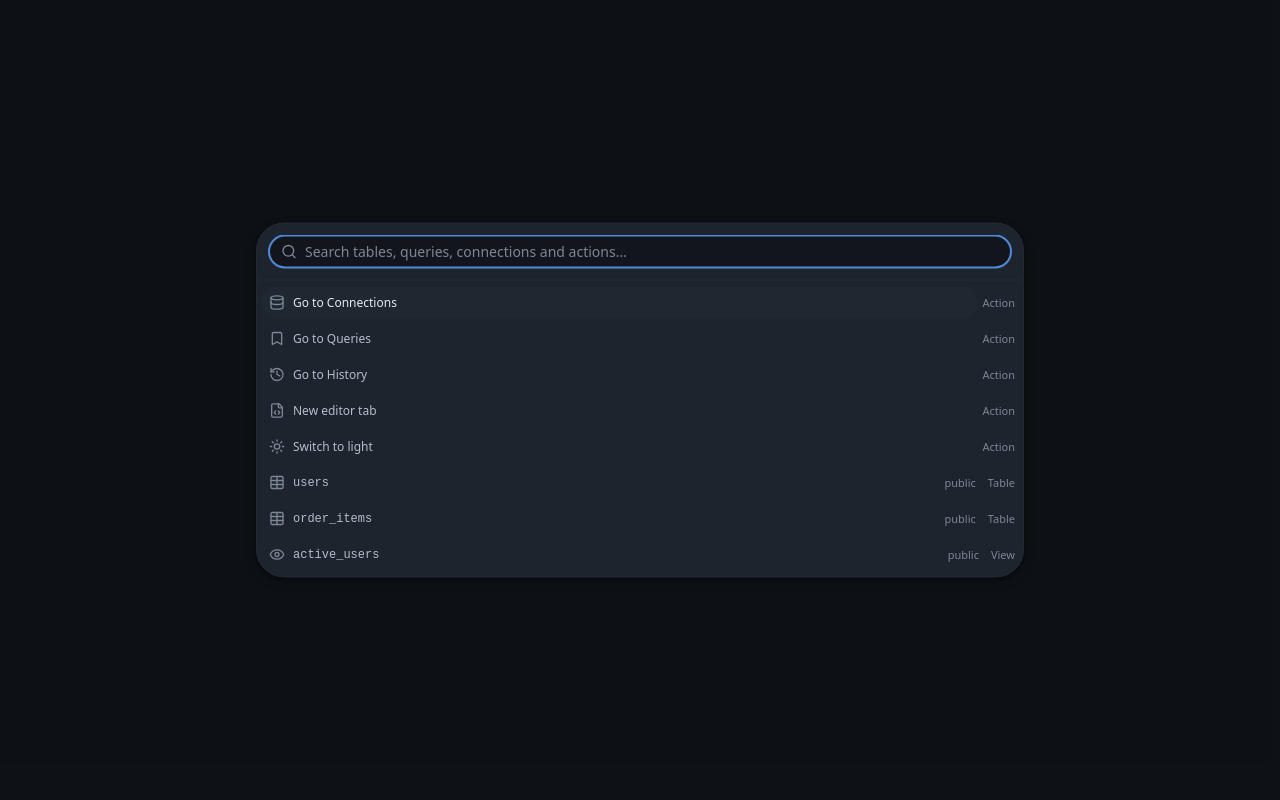
CommandPalette › finds tables by subsequence, not just prefix
The width and height of the screenshot is (1280, 800).
In the field labelled "Search tables, queries, connections and actions…": (656, 252) [305,242,1007,262], type "ordit"
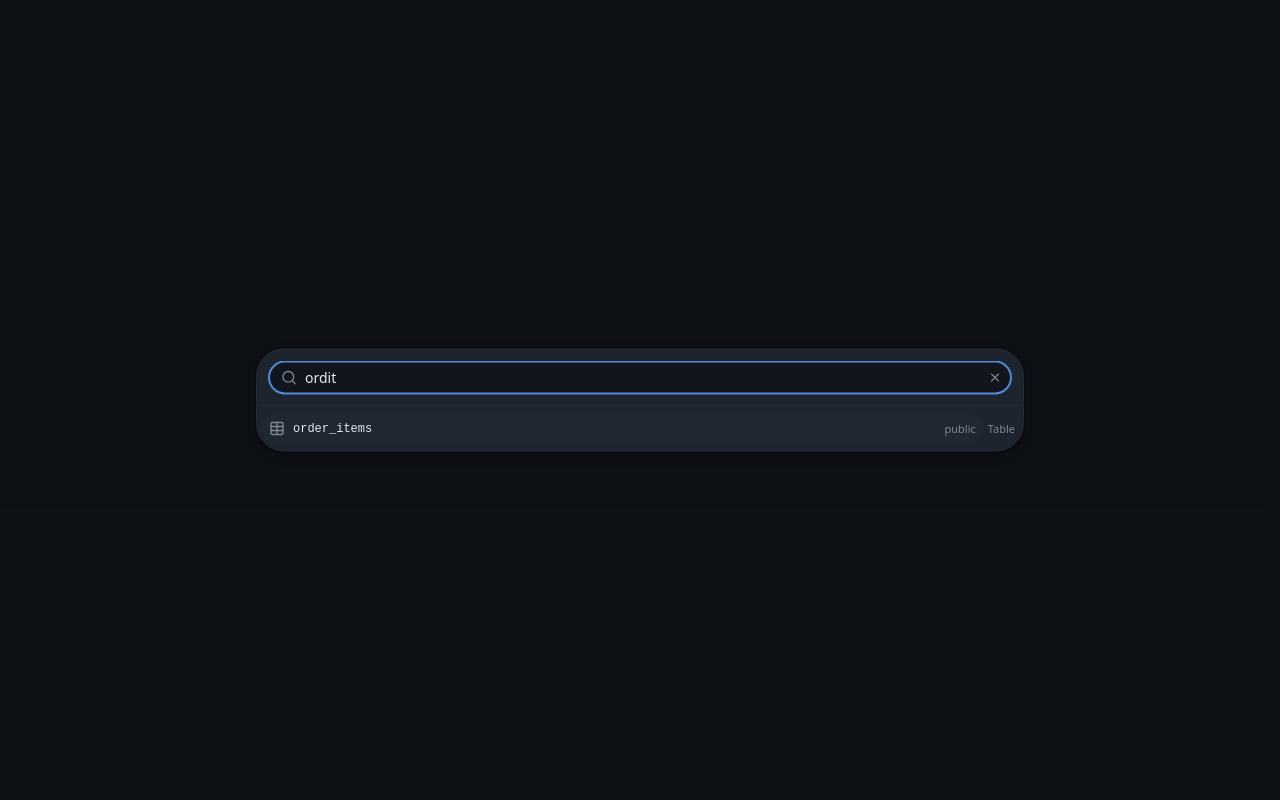
Expected: the button "order_items public" is shown, [257,410,988,446]
Expected: the button "users" is gone
